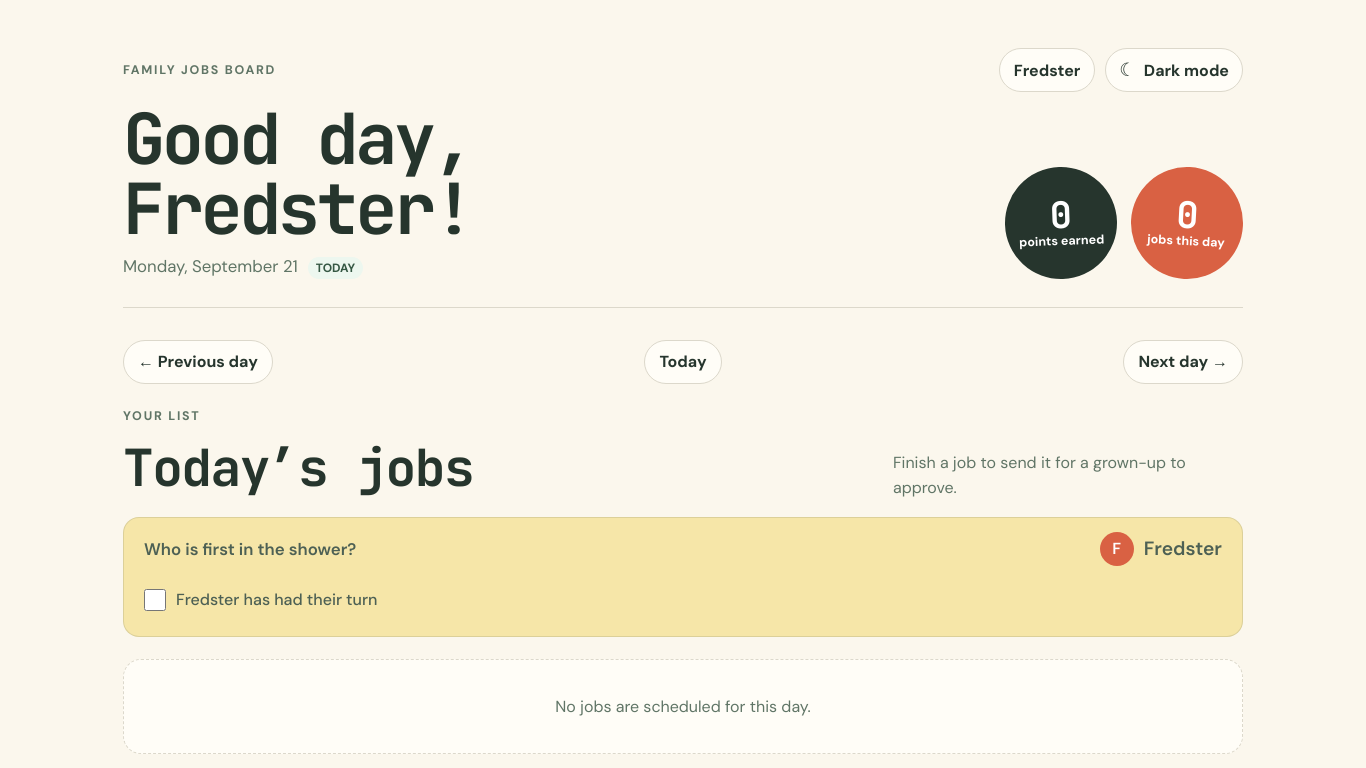
Test: Whose Turn Is It? › explains a refused tick and reloads the board
The image size is (1366, 768).
Click the checkbox labelled "Fredster has had their turn".
click(155, 600)  # box [144, 589, 166, 611]
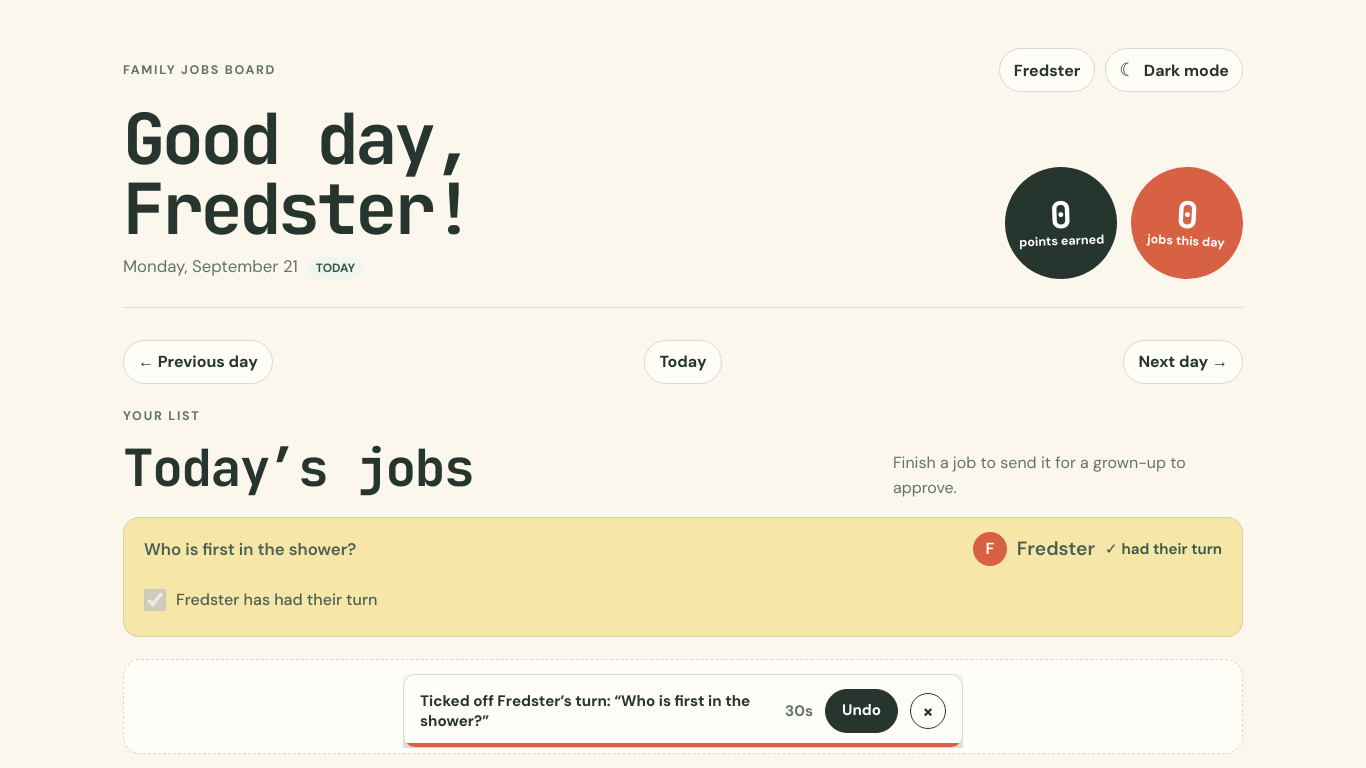
Click the button named "Dismiss and save now".
click(928, 711)  # box [910, 693, 946, 729]
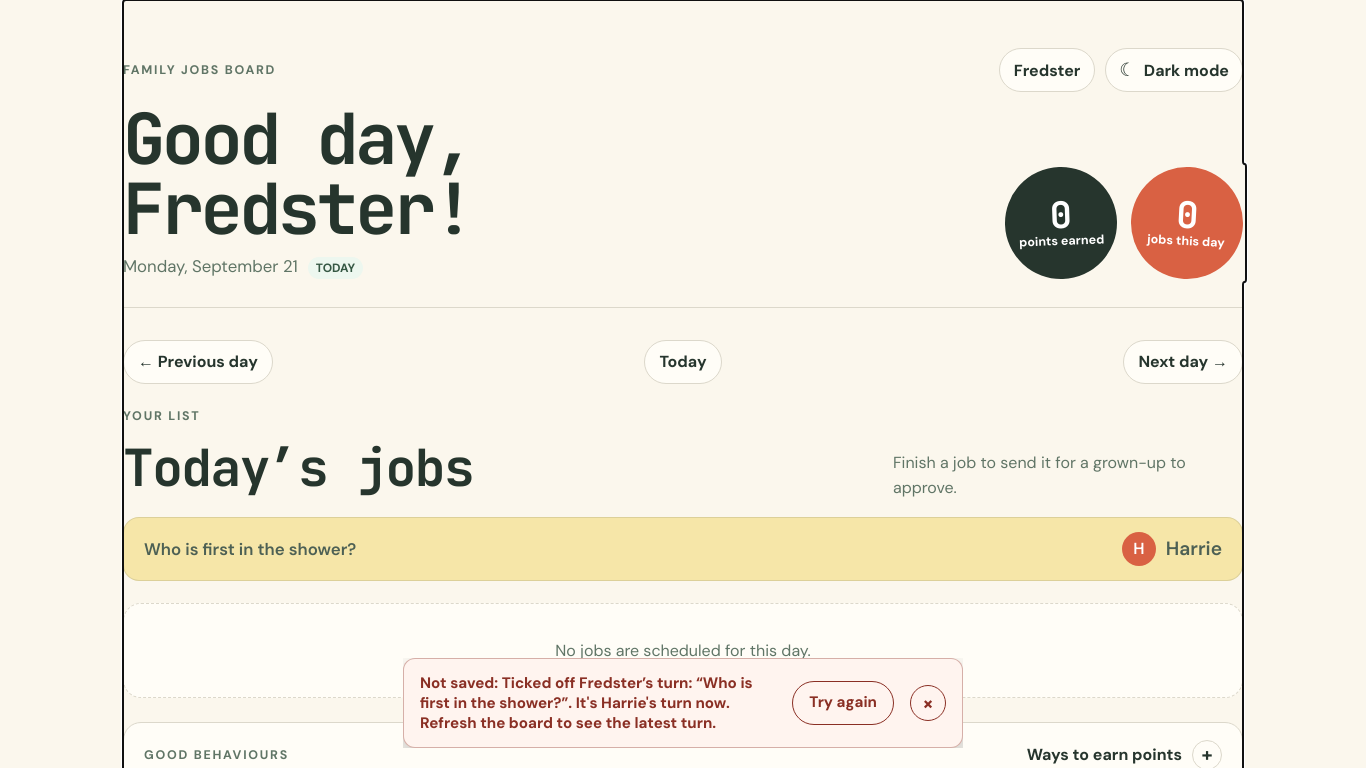
Now the 2nd message shows "Not saved: Ticked off Fredster’s turn: “Who is first in the shower?”. It's Harrie's turn now.", box [420, 673, 753, 733]
Now the text "Harrie" is shown, box [1166, 536, 1222, 561]
